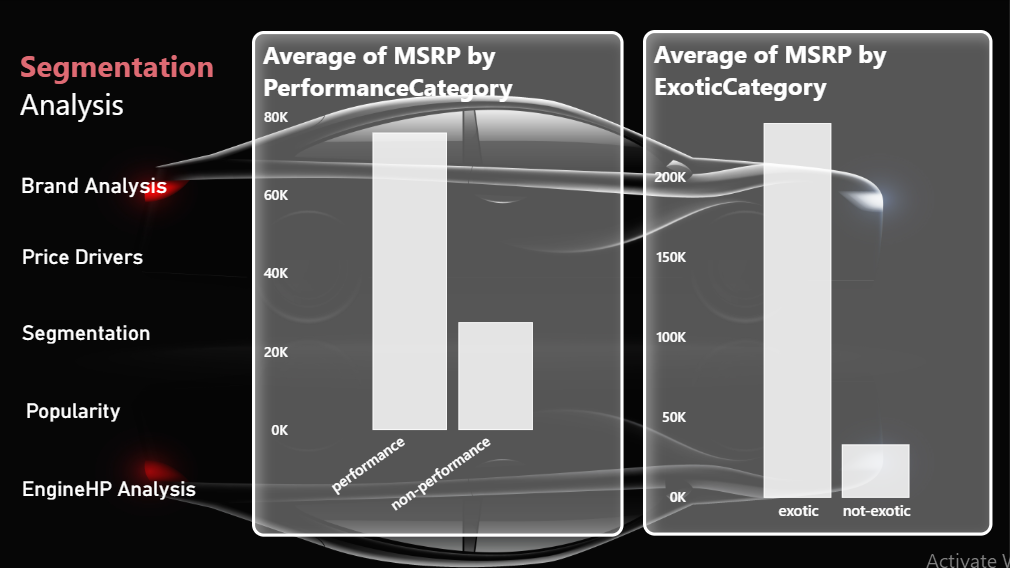

The dashboard page shown, as its layout file describes it:
{"tool":"powerbi","page":{"name":"Luxury & Performance Segmentation","canvas":[1280,720],"ordinal":1},"visuals":[{"type":"textbox","box":[0,0,278.6,720.4],"z":0},{"type":"actionButton","title":"Brand Analysis","box":[26.1,218.2,252.5,67.2],"z":1000},{"type":"actionButton","title":"Price Drivers","box":[27.4,308.7,178.4,67.2],"z":2000},{"type":"actionButton","title":"Segmentation","box":[27.4,406.2,197.6,71.4],"z":3000},{"type":"textbox","box":[20.6,52.1,269,120.8],"z":4000},{"type":"clusteredColumnChart","fields":{"Y":["Avg(Sheet1 (2).MSRP)"],"Category":["Sheet1 (2).PerformanceCategory"]},"box":[319.7,39.8,470.7,640.8],"z":5000},{"type":"clusteredColumnChart","fields":{"Y":["Avg(Sheet1 (2).MSRP)"],"Category":["Sheet1 (2).ExoticCategory"]},"box":[815.1,38.4,443.2,640.8],"z":6000},{"type":"actionButton","title":"Popularity","box":[32.9,505,172.9,64.5],"z":7000},{"type":"actionButton","title":"EngineHP Analysis","box":[27.4,603.8,230.5,60.4],"z":8000}]}

Visuals, with their boxes in screenshot pixels (x1, y1, x2, y2), scaled from the page's 1280x720 canvas onto the 1010x568 screenshot:
textbox: 0,0,220,567
"Brand Analysis" actionButton: 21,172,220,225
"Price Drivers" actionButton: 22,244,162,297
"Segmentation" actionButton: 22,320,178,377
textbox: 16,41,229,136
clusteredColumnChart - Avg(Sheet1 (2).MSRP) x Sheet1 (2).PerformanceCategory: 252,31,624,537
clusteredColumnChart - Avg(Sheet1 (2).MSRP) x Sheet1 (2).ExoticCategory: 643,30,993,536
"Popularity" actionButton: 26,398,162,449
"EngineHP Analysis" actionButton: 22,476,203,524
